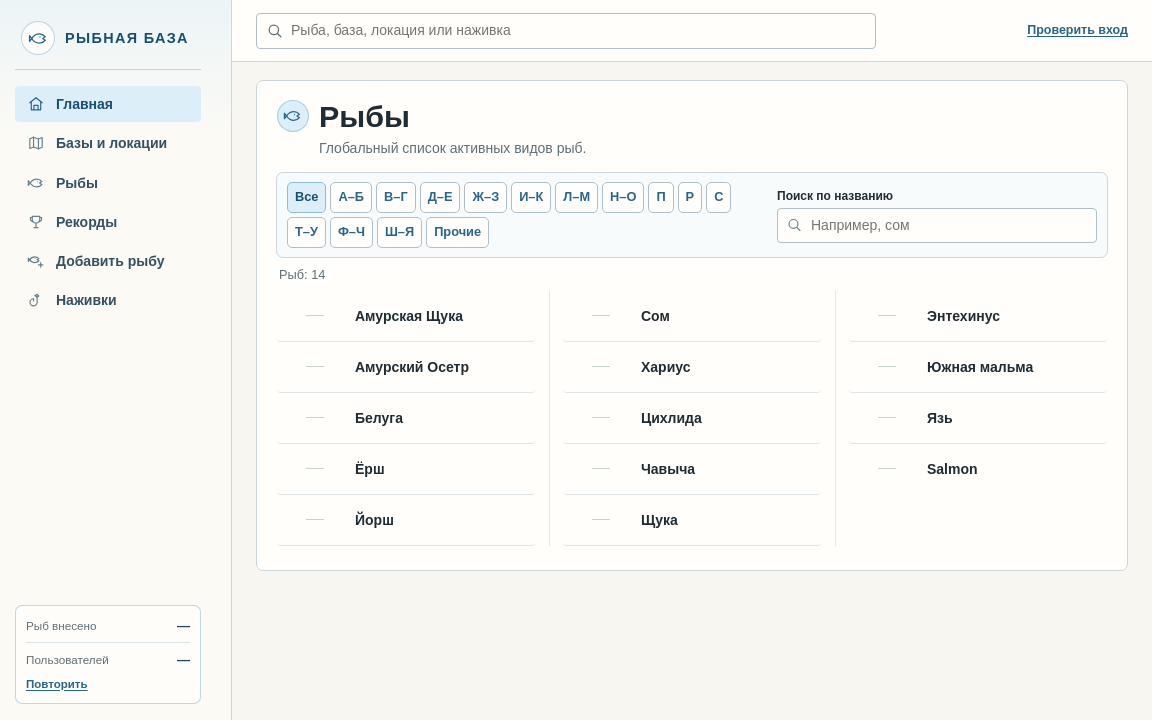
Test case: FishPage alphabet navigation › distinguishes group and search empty states while keeping controls visible
Click the button "В–Г".
click(396, 198)  # box 376,182 -> 416,213
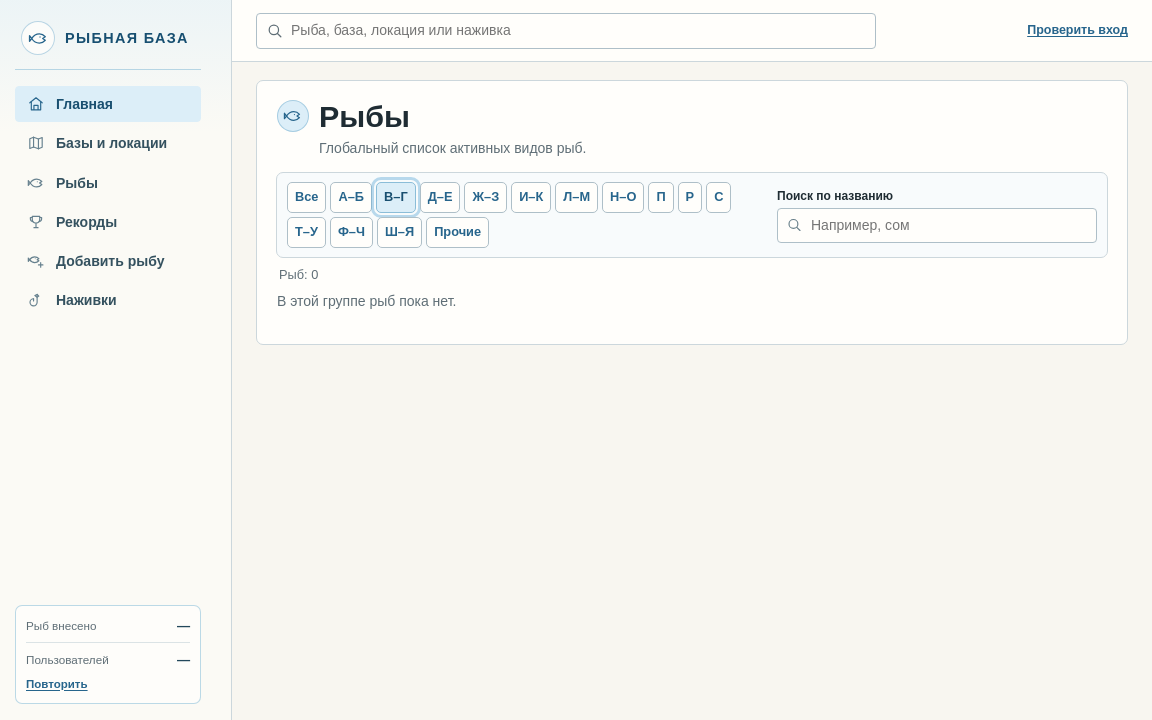
Now the text "В этой группе рыб пока нет." is shown, box 277,293 -> 456,309
Now the text "Рыб: 0" is shown, box 279,267 -> 318,282
Type "карась" into the search field.
click(937, 225); type("карась")  # box 777,208 -> 1097,243
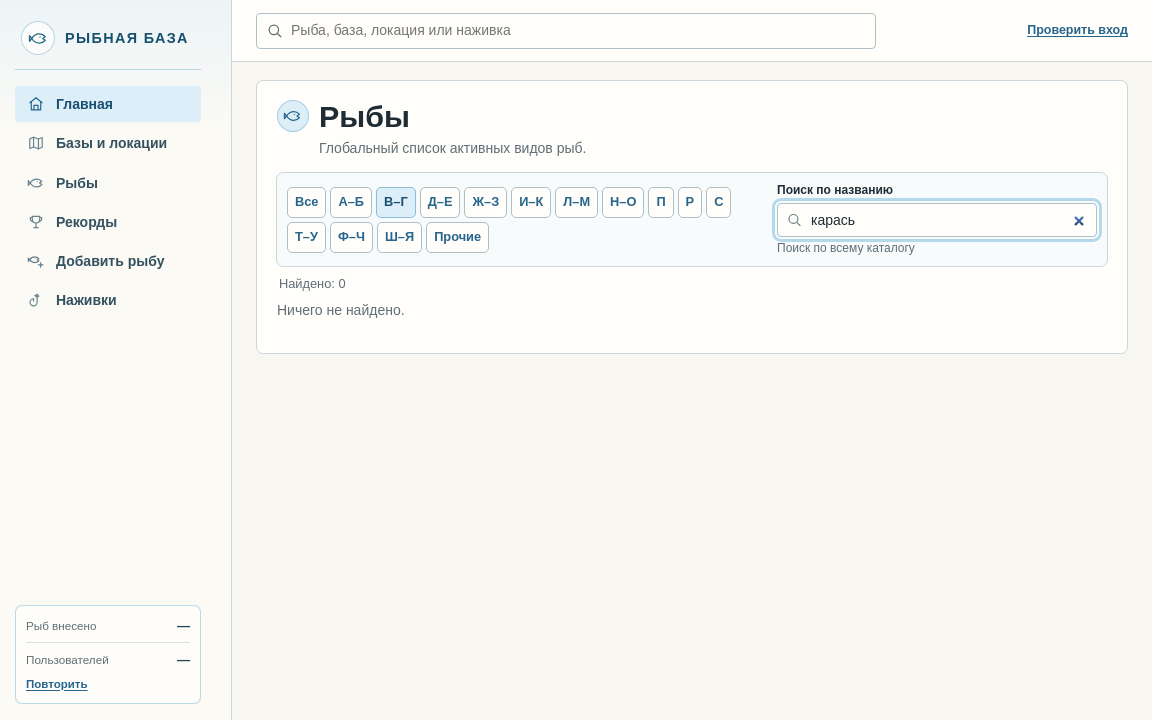
Expected: the button "Все" is shown, 287,187 -> 326,218
Now the text "Ничего не найдено." is shown, box 277,302 -> 405,318
Now the text "Найдено: 0" is shown, box 279,276 -> 346,291
